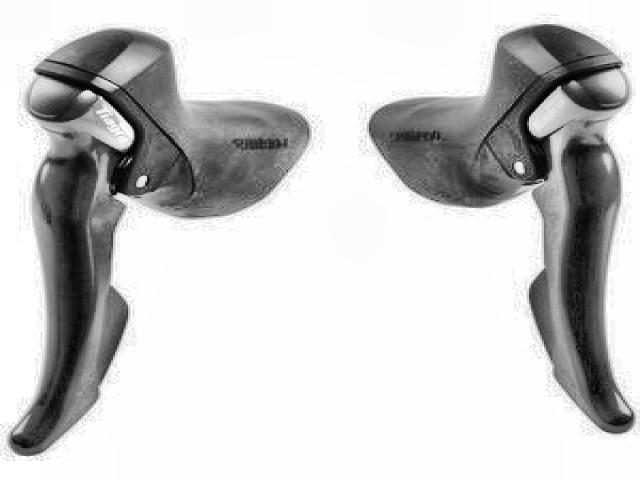sti_shifter: (4, 19, 318, 472), (372, 18, 635, 435)
